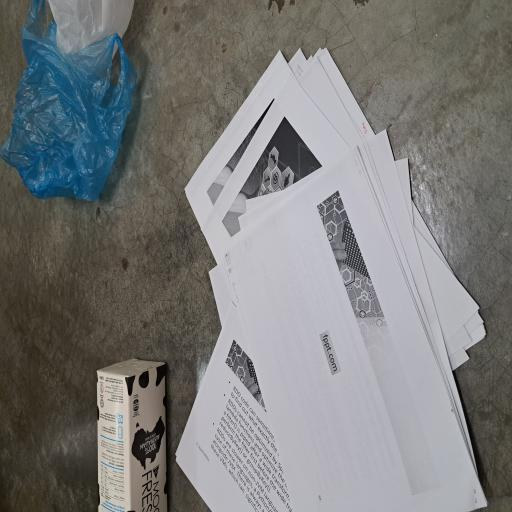drink carton: (0, 130, 117, 220)
paper: (0, 232, 351, 512)
plastic bag: (232, 0, 384, 183), (336, 65, 384, 182)
